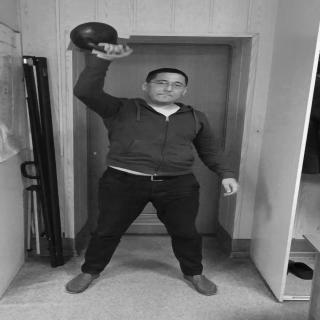kettlebell: (71, 22, 133, 57)
